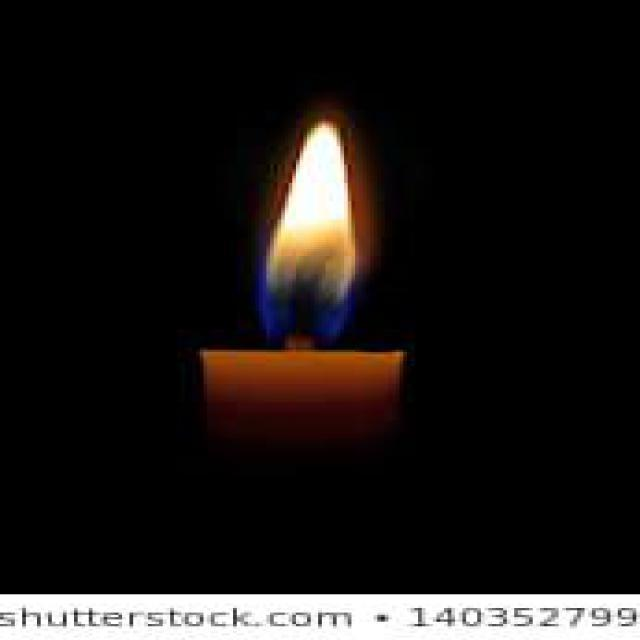Fire: (259, 121, 359, 343)
